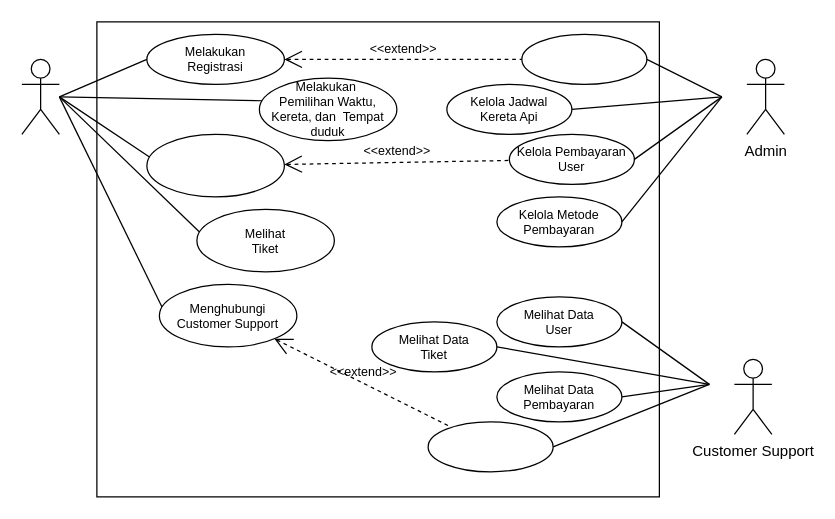
This 835x519 diagram has some shape labels left out. Each missing label, with the centre of its shape:
Kelola Data User: (584,58)
Melakukan Pembayaran: (215,165)
Membuat Laporan Bantuan Pelanggan: (490,446)
User: (40,96)
